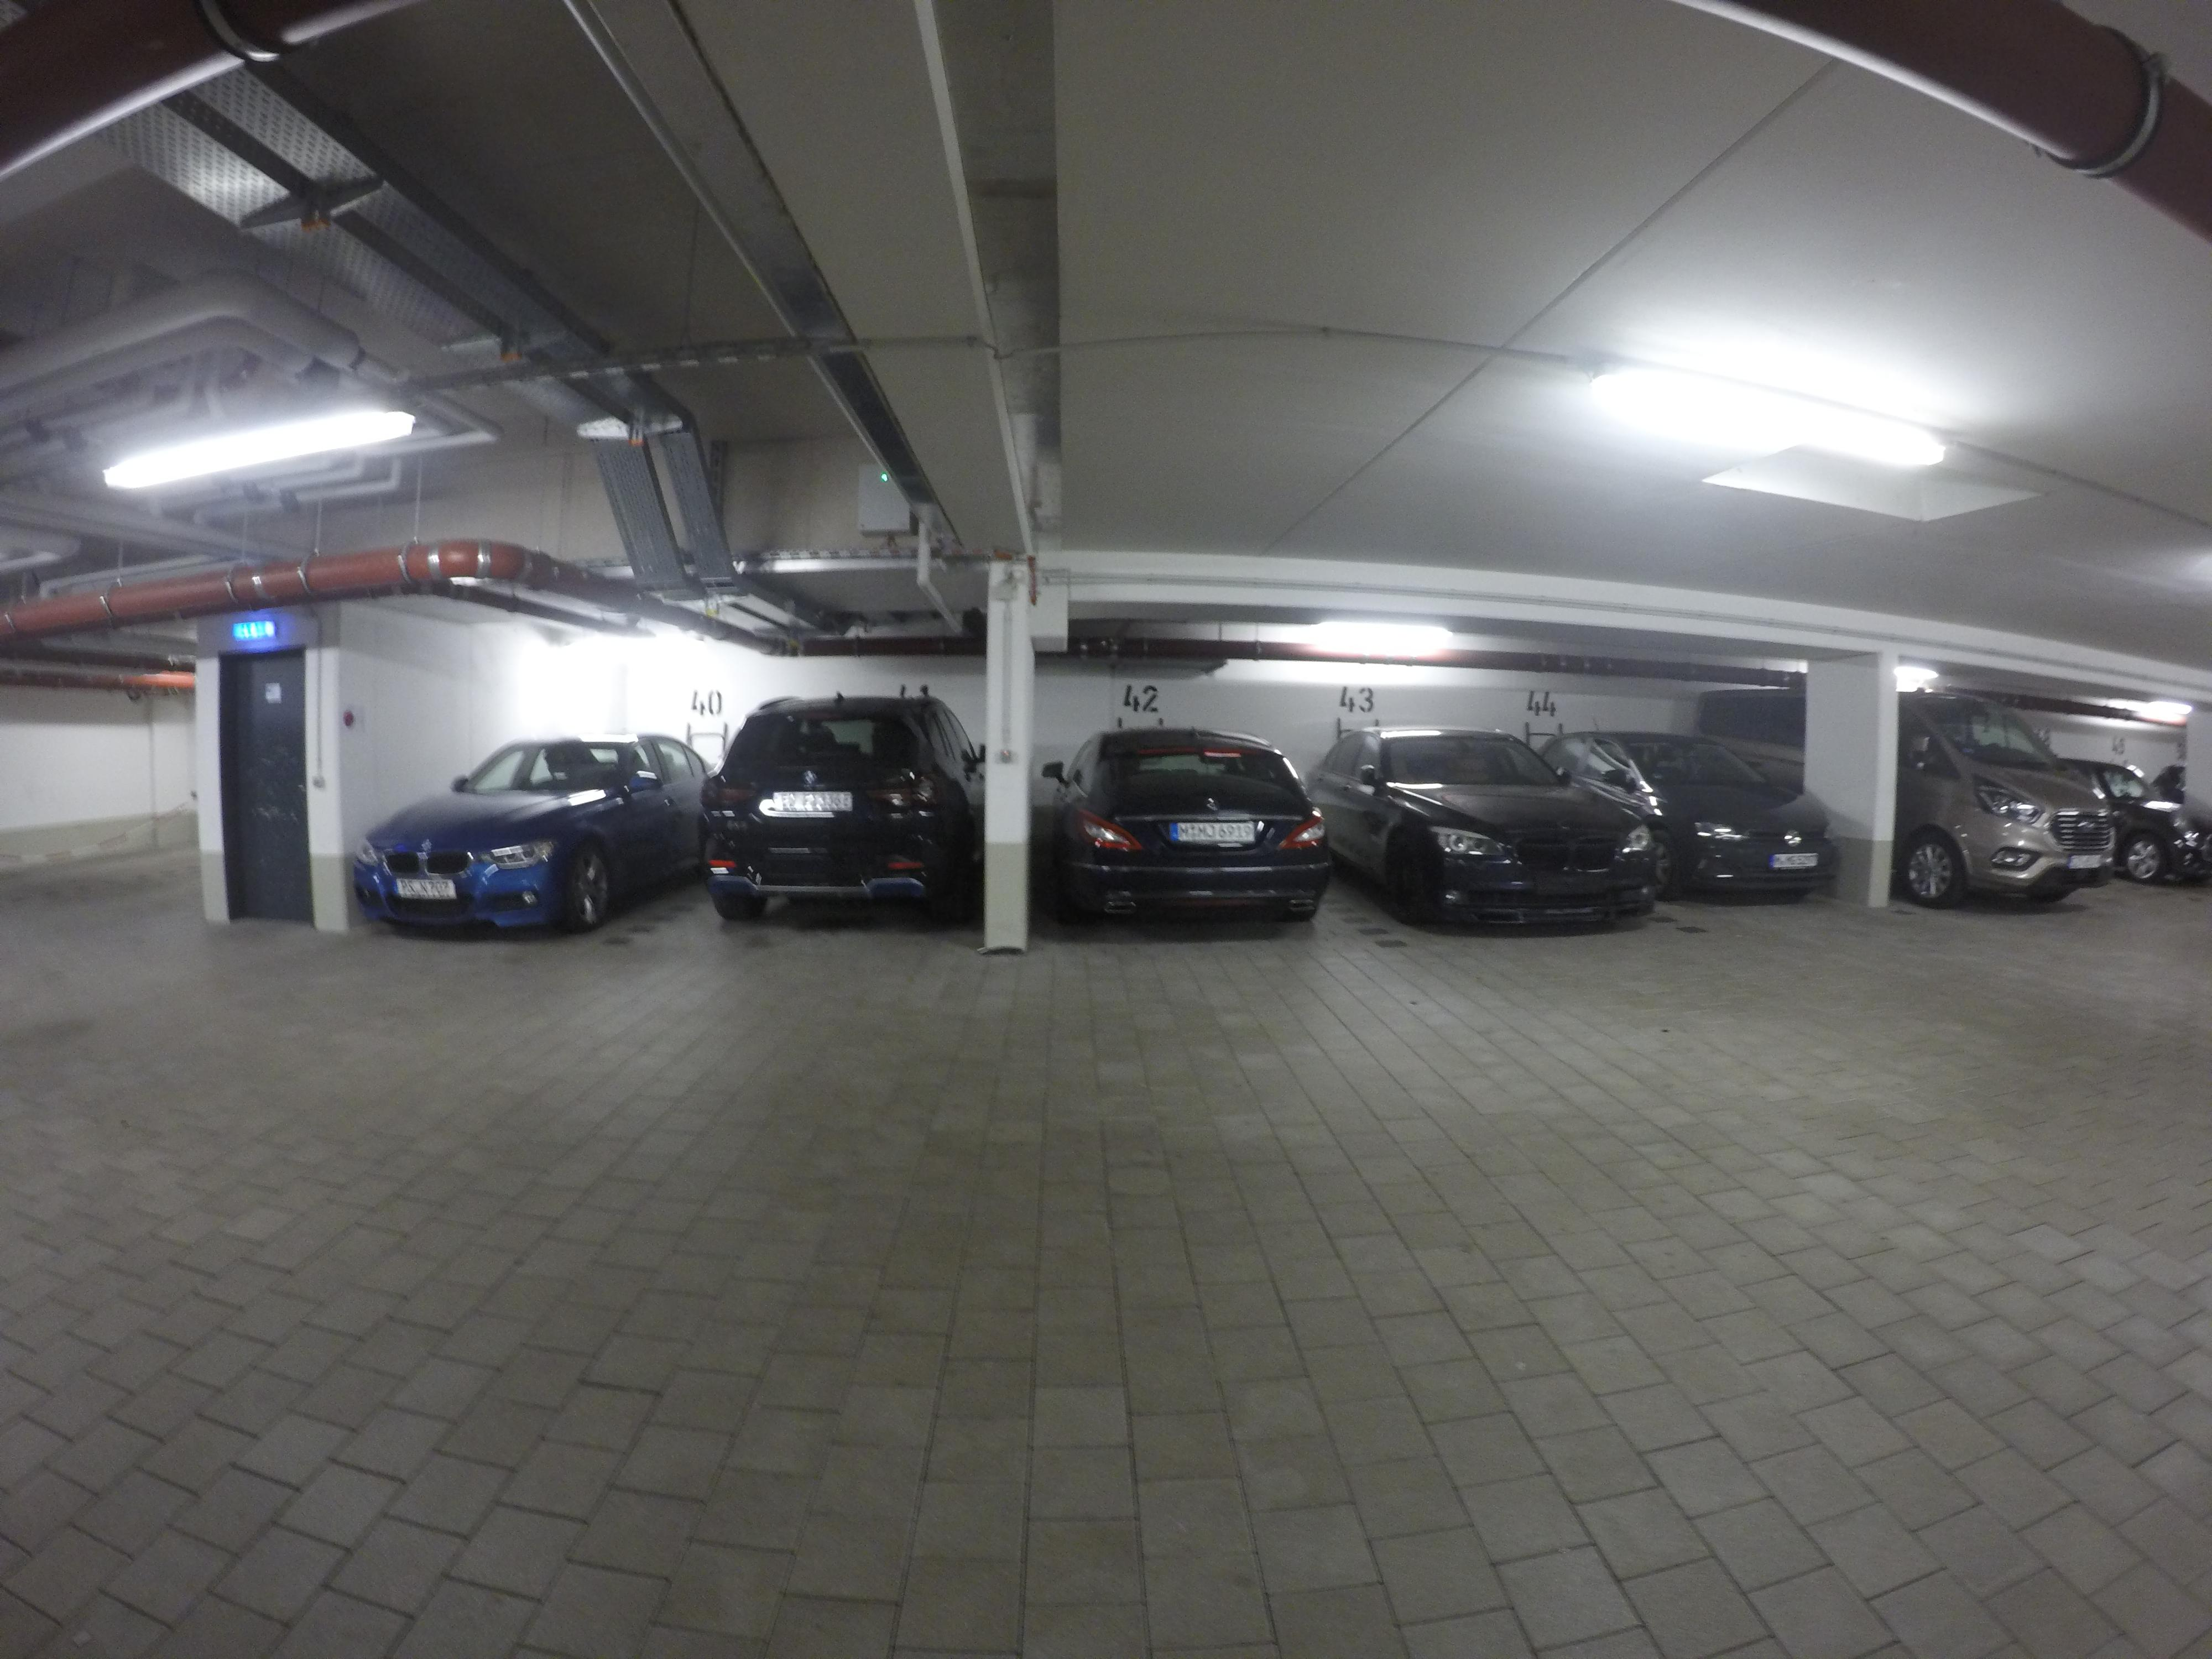1: (1235, 826, 1243, 837)
6: (1218, 825, 1227, 837)
9: (1243, 825, 1251, 838), (1226, 824, 1235, 837)
J: (1207, 824, 1216, 838)
M: (1179, 825, 1190, 838), (1197, 824, 1207, 838)
